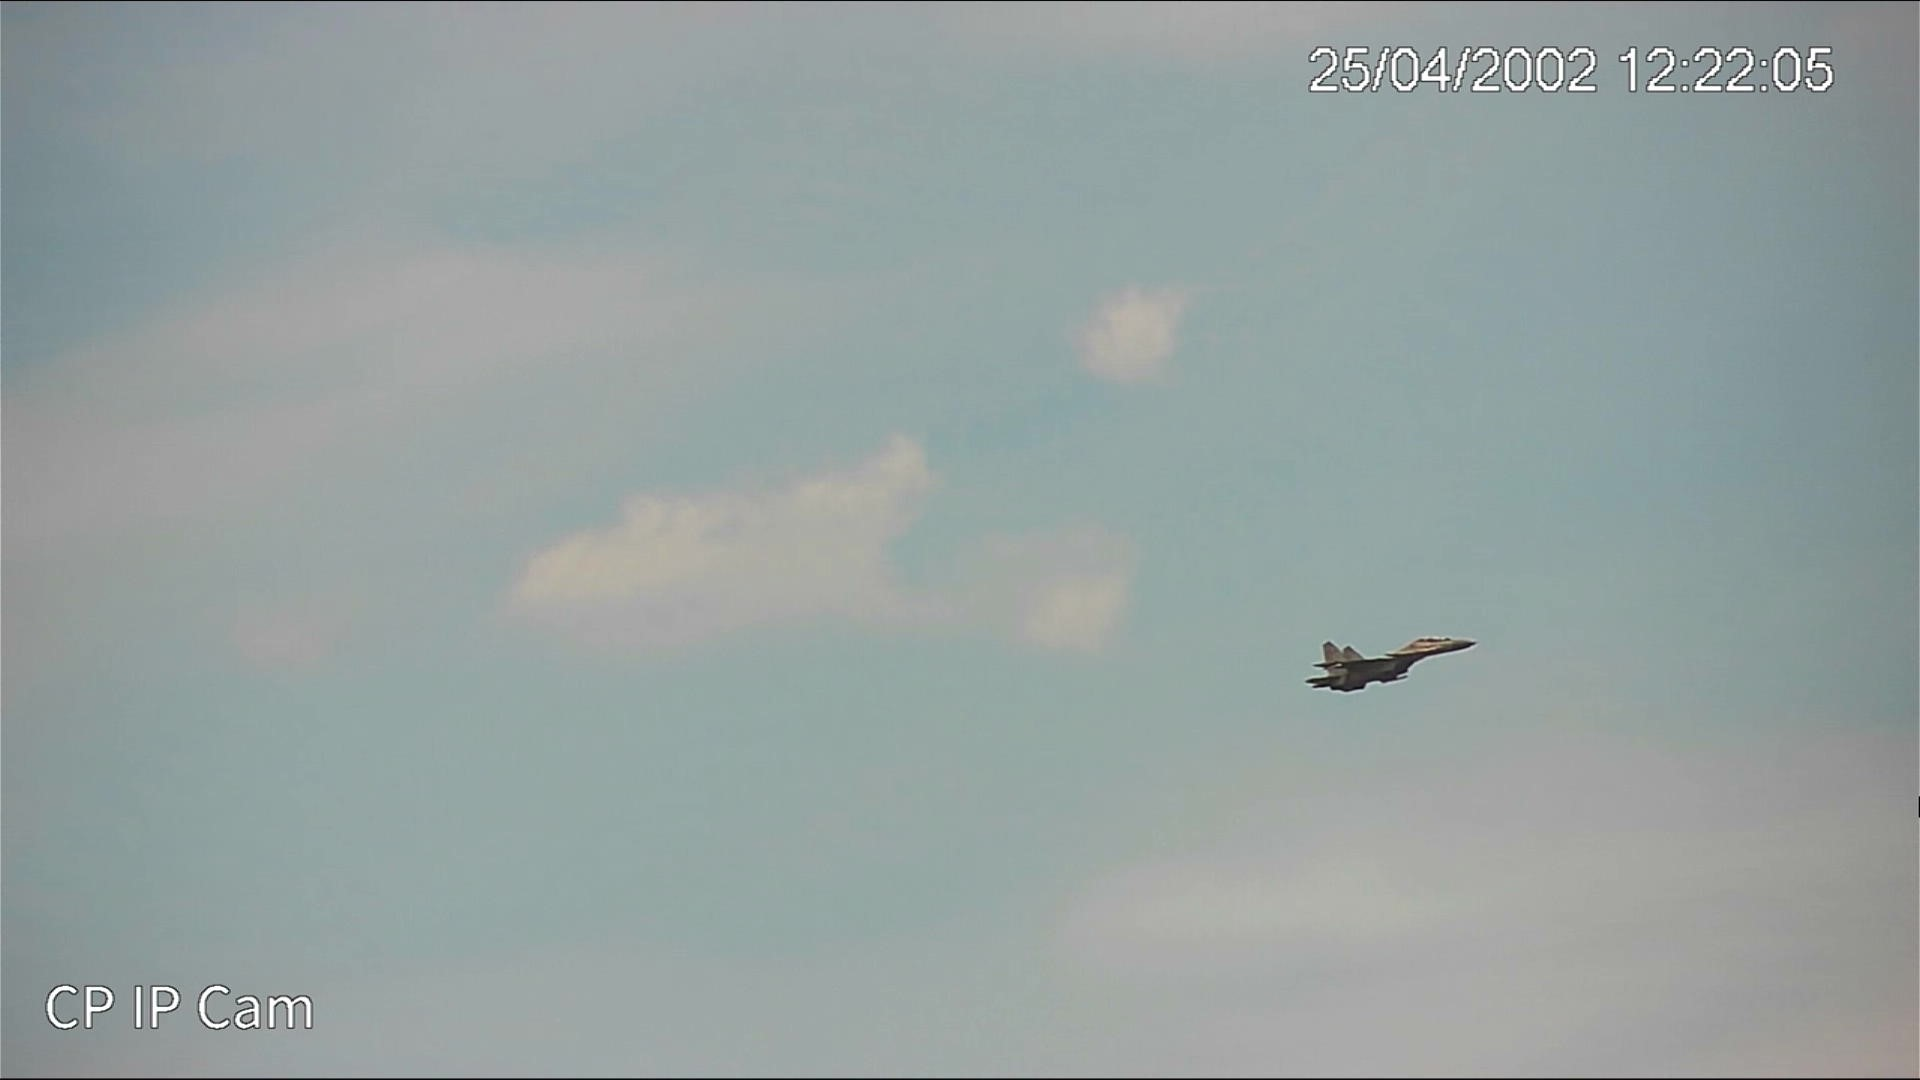SU_30: (1299, 632, 1480, 694)
